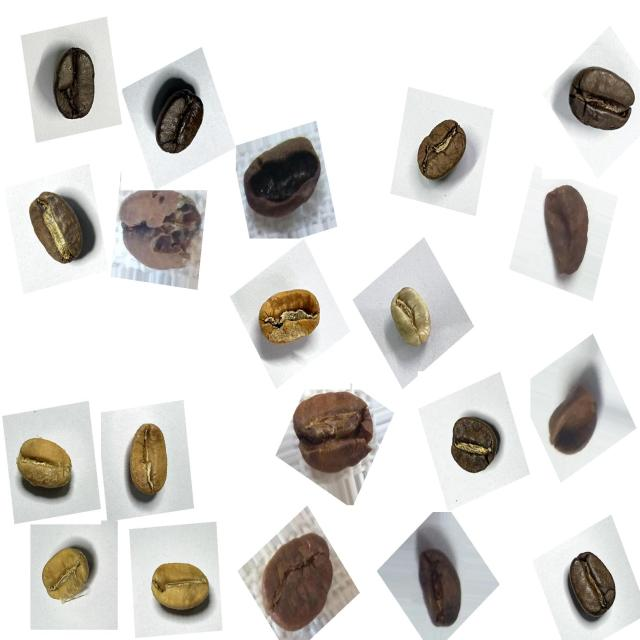bad: (286, 378, 384, 487), (253, 521, 343, 638), (238, 124, 328, 234), (113, 183, 210, 282), (534, 174, 606, 286), (539, 374, 609, 469), (406, 536, 472, 636)
dark: (561, 51, 640, 146), (143, 70, 214, 168), (42, 37, 111, 132)
green: (379, 278, 442, 360)
light: (249, 275, 330, 362), (113, 412, 183, 510), (10, 422, 86, 508), (138, 550, 218, 630), (34, 538, 104, 622)
medium: (17, 182, 96, 277), (556, 542, 628, 631), (407, 108, 479, 194), (441, 406, 508, 487)
